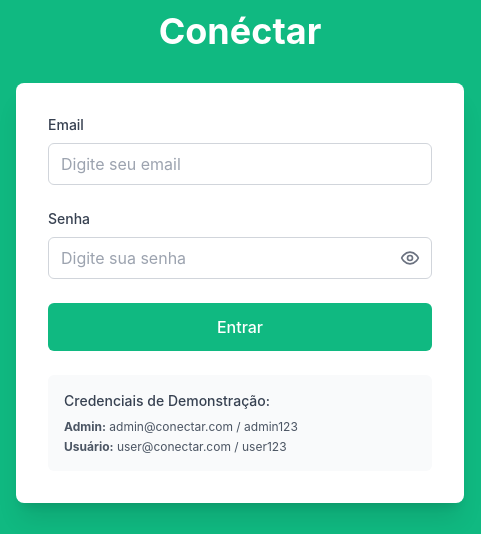
Scenario: Login Component › should display loading state during submission
Type "test@example.com" into the field labelled "Email" at coordinates (240, 164), box [48,143,432,185]
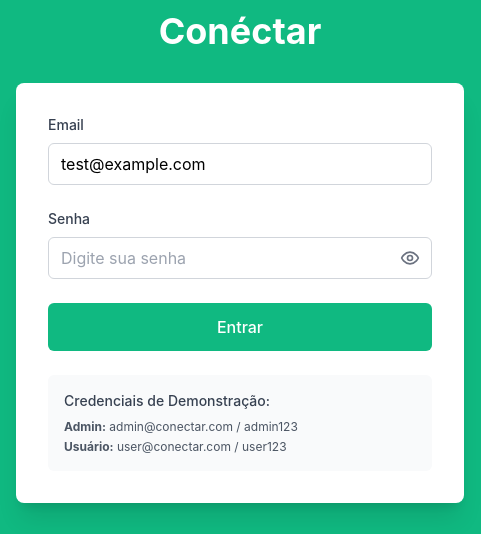
Type "password123" into the password field labelled "Senha" at coordinates (240, 258), box [48,237,432,279]
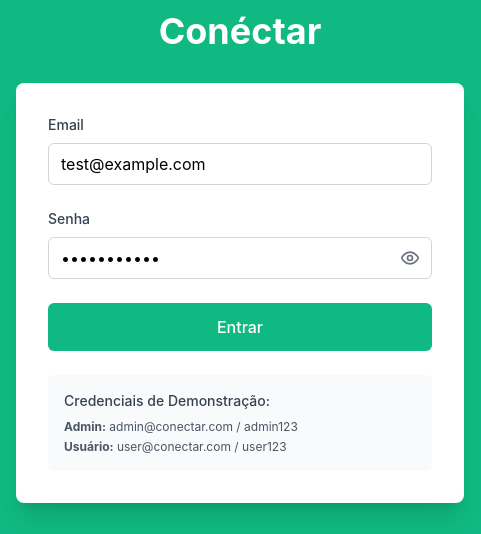
Click the button "Entrar" at coordinates (240, 327), box [48,303,432,351]
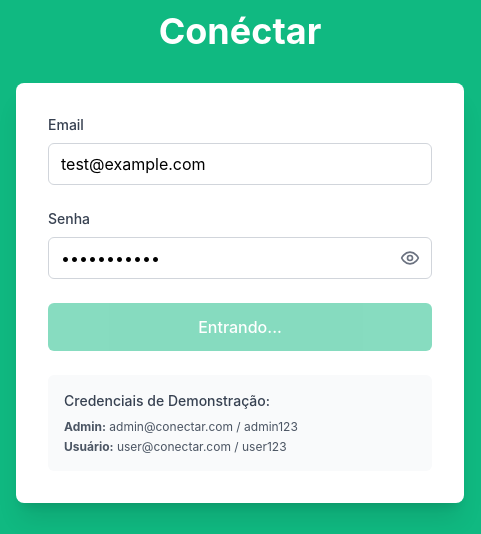
expect the button "Entrando..." is disabled: met, box [48,303,432,351]
